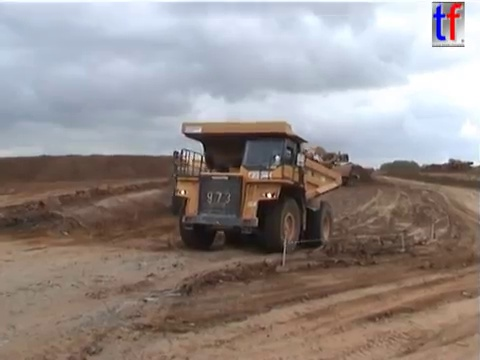excavator: (286, 143, 351, 170)
truck: (170, 119, 345, 254), (320, 162, 365, 189)
